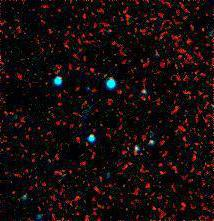star: (51, 31, 81, 61)
